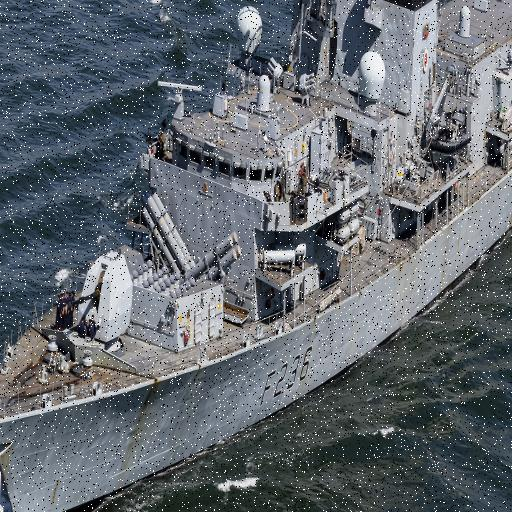Fragata: (1, 1, 342, 512)
